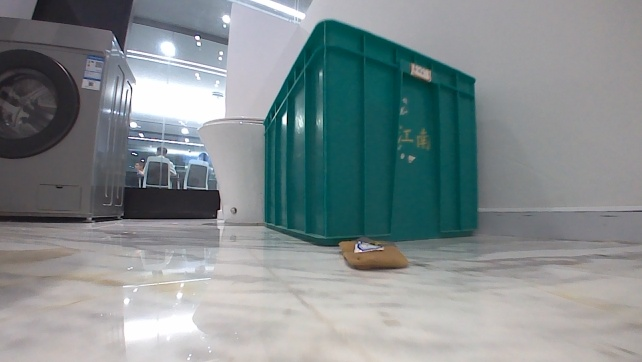socks: (332, 235, 410, 271)
toilet: (195, 113, 267, 226)
washing_machine: (0, 15, 138, 225)
